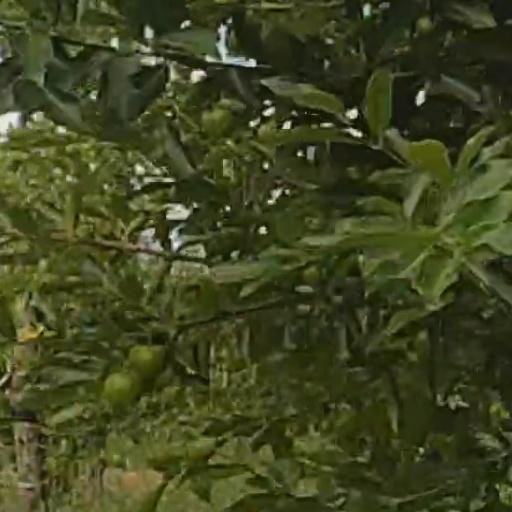acerola_verde: (105, 375, 140, 403), (130, 346, 163, 374), (203, 110, 232, 134)
